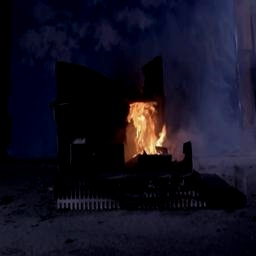fire: (124, 92, 177, 166)
